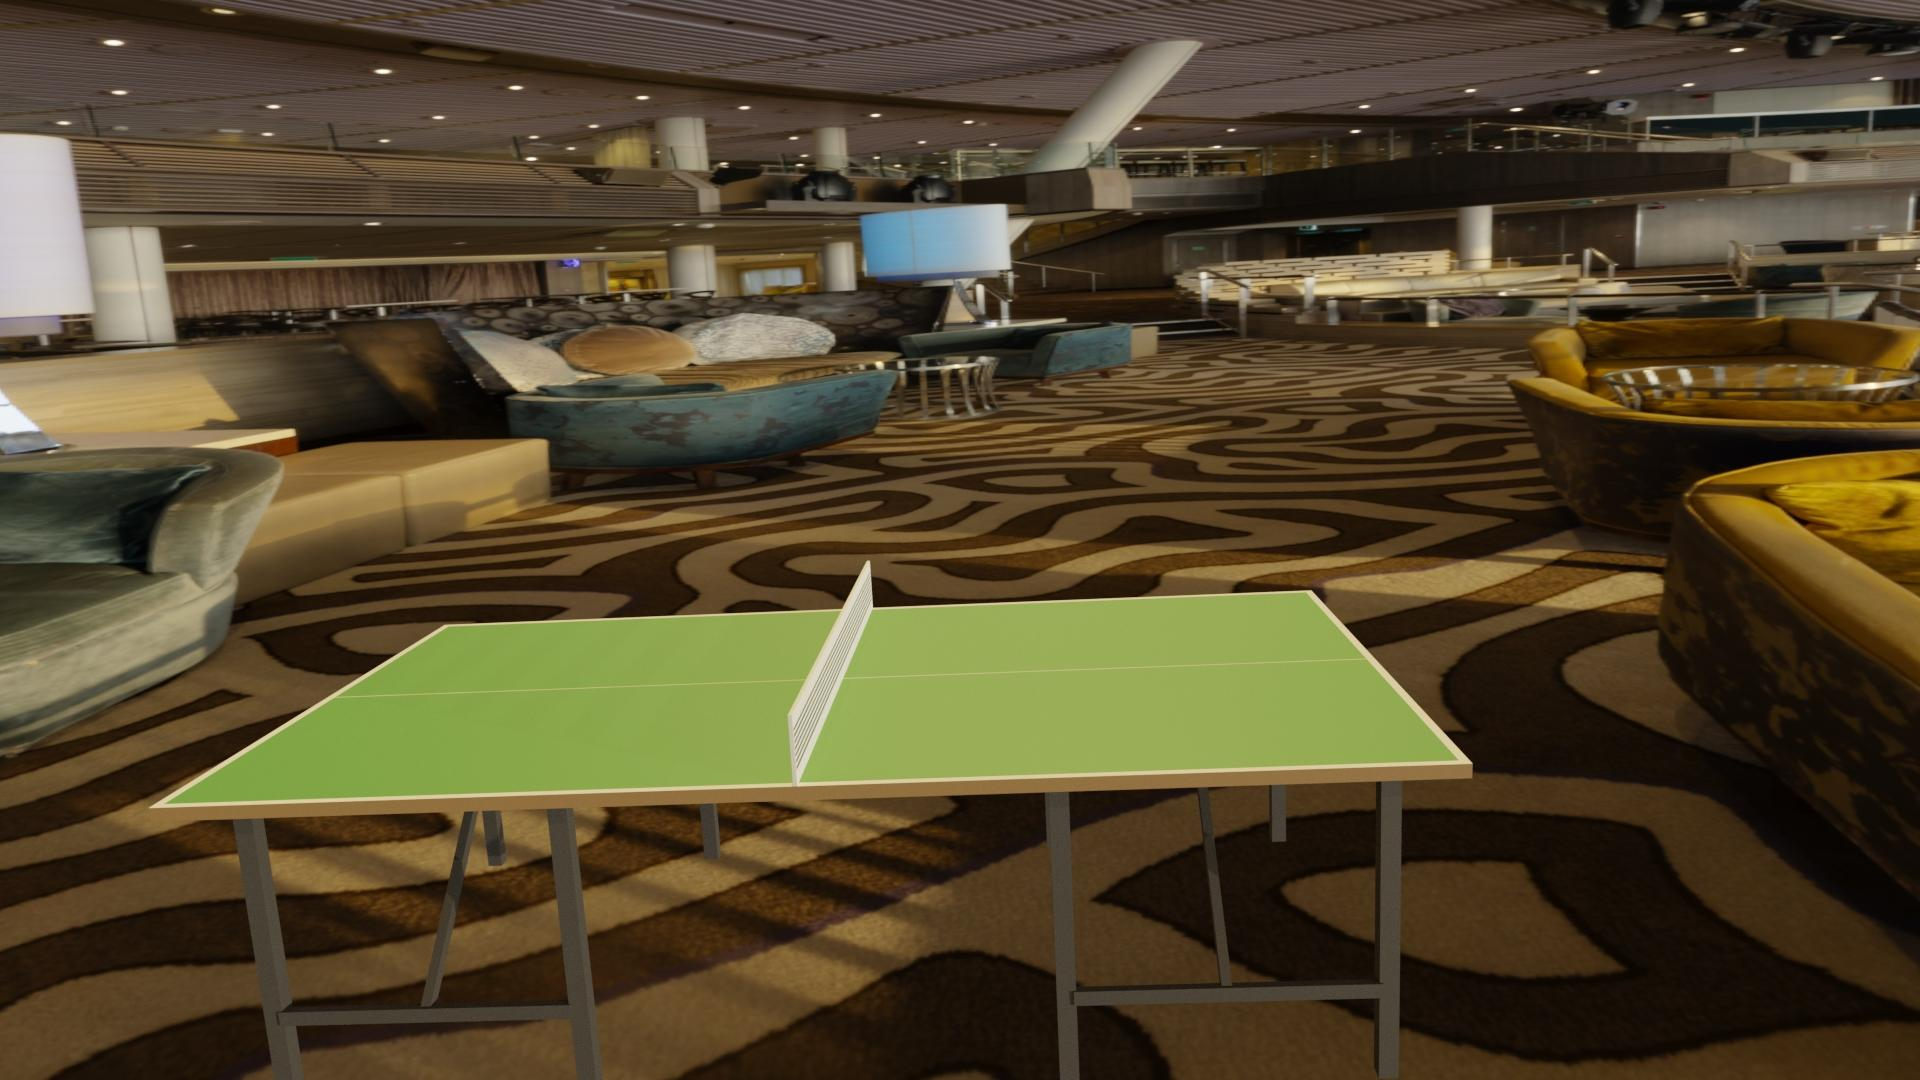table: (164, 592, 1460, 804)
